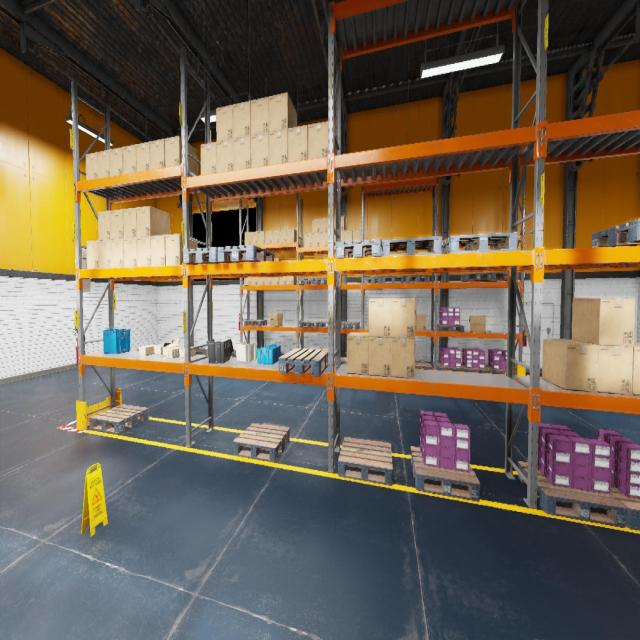box: (574, 340, 633, 394), (571, 298, 635, 346), (542, 338, 598, 392), (165, 136, 198, 175), (269, 92, 297, 132), (165, 233, 198, 265), (136, 206, 170, 237), (391, 298, 415, 338), (391, 338, 415, 378), (347, 332, 368, 374), (369, 337, 391, 376), (369, 298, 391, 337), (308, 121, 328, 159), (288, 125, 308, 162), (250, 97, 268, 135), (269, 129, 288, 164), (233, 100, 250, 138), (216, 104, 233, 142), (250, 132, 268, 167), (233, 136, 251, 170), (200, 142, 217, 174), (217, 140, 233, 172), (150, 139, 165, 169), (151, 234, 165, 266), (632, 342, 640, 396), (123, 208, 137, 238), (136, 142, 150, 171), (137, 237, 151, 266), (123, 144, 136, 174), (110, 209, 123, 239), (97, 149, 110, 178), (110, 147, 123, 175), (85, 152, 98, 180), (124, 238, 137, 266), (111, 239, 124, 267), (98, 210, 110, 240), (99, 240, 111, 268), (87, 240, 99, 268), (162, 339, 179, 356), (469, 316, 486, 332), (165, 346, 182, 358), (269, 312, 283, 326), (139, 345, 156, 355), (180, 347, 196, 357), (416, 314, 426, 330), (287, 229, 296, 242), (353, 229, 361, 243), (344, 230, 352, 243), (304, 233, 312, 246), (154, 344, 164, 354), (328, 217, 335, 231), (320, 218, 327, 232), (312, 218, 319, 232), (320, 232, 327, 246), (312, 232, 319, 246), (272, 230, 279, 243), (265, 230, 272, 243), (258, 230, 265, 243), (251, 231, 258, 244), (328, 232, 335, 245), (244, 232, 251, 244), (280, 230, 286, 242), (286, 277, 296, 284), (244, 277, 251, 285), (341, 217, 345, 230), (279, 277, 286, 284), (265, 277, 271, 285), (258, 277, 264, 285), (251, 277, 257, 285), (272, 277, 278, 284), (341, 230, 344, 240), (274, 258, 283, 261), (415, 315, 416, 330), (415, 299, 416, 314)
pallets: (518, 461, 626, 528), (410, 446, 480, 502), (338, 437, 393, 485), (233, 423, 289, 462), (90, 404, 148, 434), (442, 232, 518, 254), (278, 348, 328, 376), (610, 484, 640, 530), (592, 219, 640, 247), (382, 236, 442, 256), (218, 245, 274, 262), (336, 239, 382, 258), (182, 247, 230, 264), (461, 272, 492, 282), (486, 272, 520, 281), (485, 366, 516, 374), (462, 364, 489, 373), (437, 324, 464, 332), (437, 363, 463, 371), (299, 320, 321, 328), (405, 276, 430, 283), (244, 319, 267, 326), (319, 321, 341, 328), (341, 321, 359, 329), (382, 276, 404, 282), (415, 362, 432, 369), (364, 277, 382, 283), (298, 278, 314, 284), (314, 278, 327, 284), (340, 357, 347, 364), (334, 357, 341, 362)
